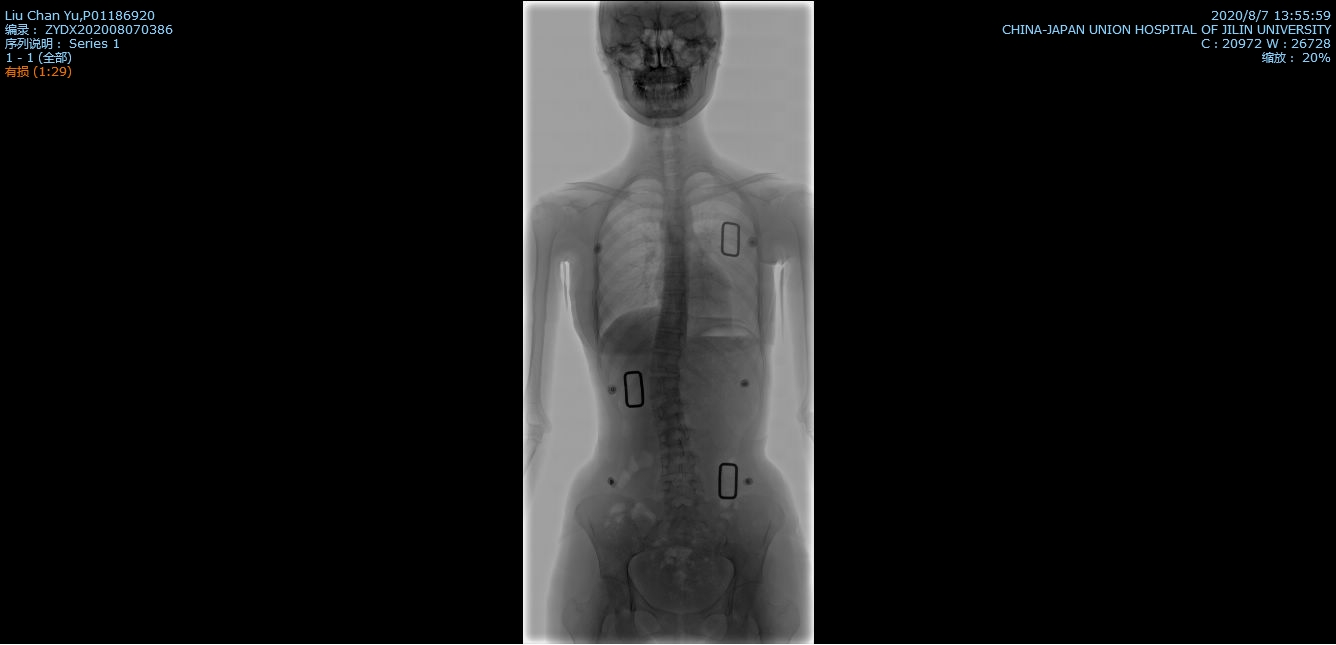Bone: (661, 479, 701, 501), (661, 452, 694, 473), (650, 378, 679, 400), (650, 404, 684, 422), (659, 428, 690, 446), (652, 353, 680, 372), (655, 330, 682, 349), (659, 292, 687, 310), (661, 273, 688, 289), (659, 313, 686, 328), (664, 256, 686, 271), (661, 225, 684, 238), (661, 241, 685, 253)
